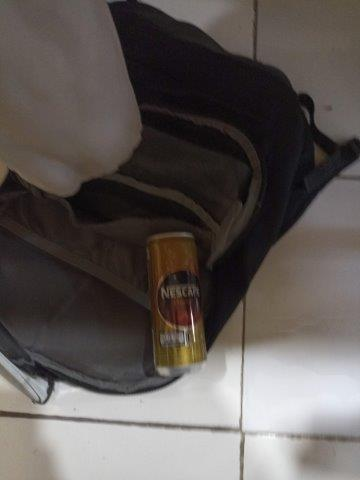kaleng: (145, 231, 207, 378)
